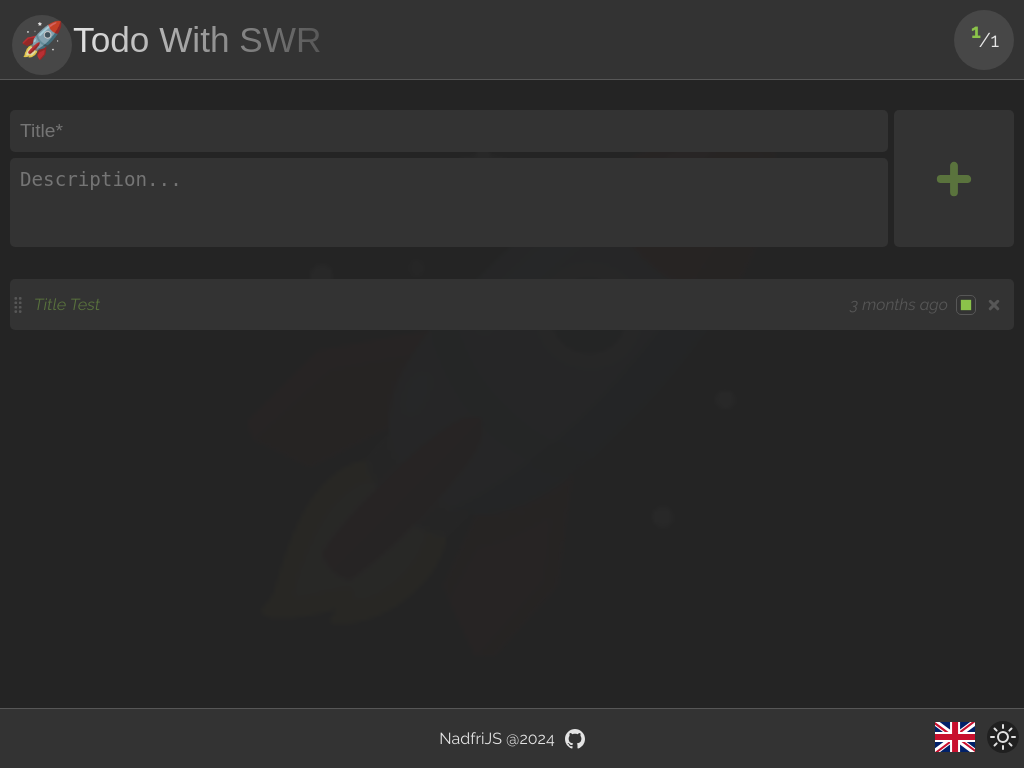
FlagBtnSelector › should change language and close selector on button click
Click the button titled "select language": (955,737) [935,722,975,752]
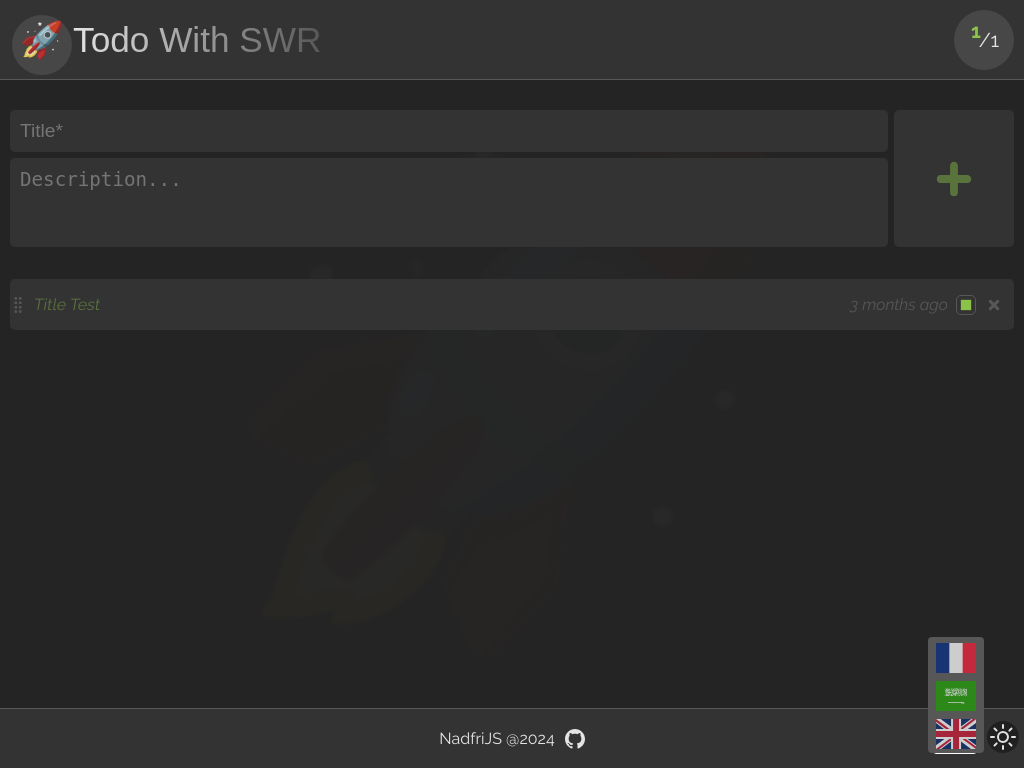
Click the button titled "select French": (956,658) [936,643,976,673]
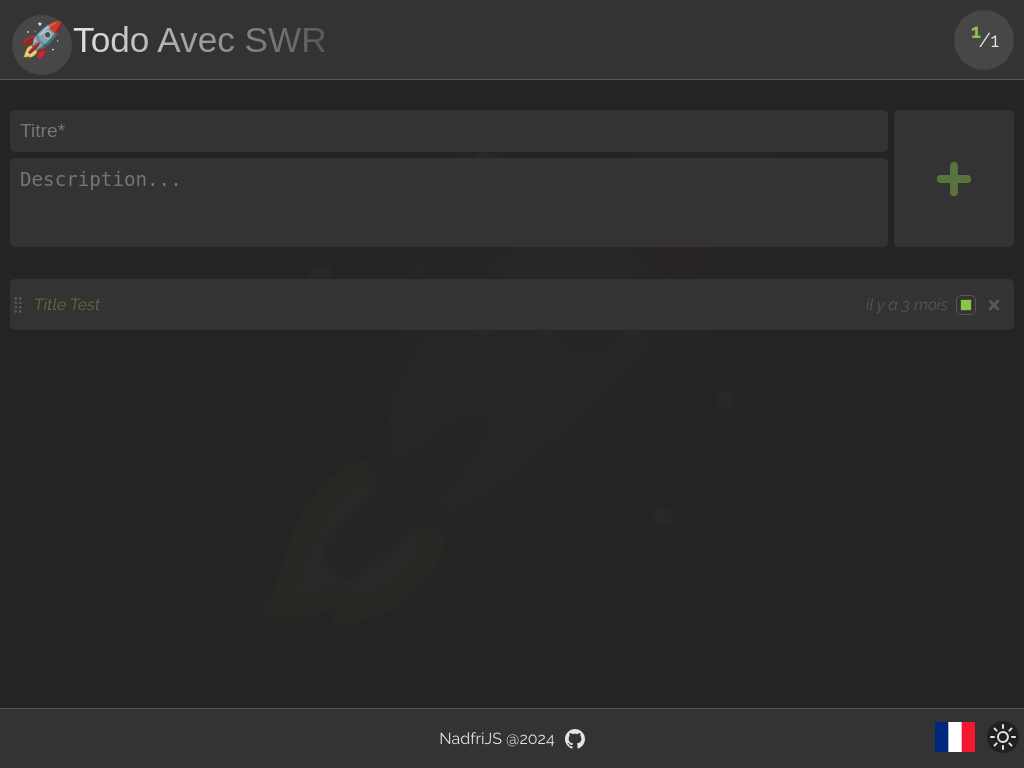
Result: the text "Todo Avec SWR" is shown at [73,20,327,58]
